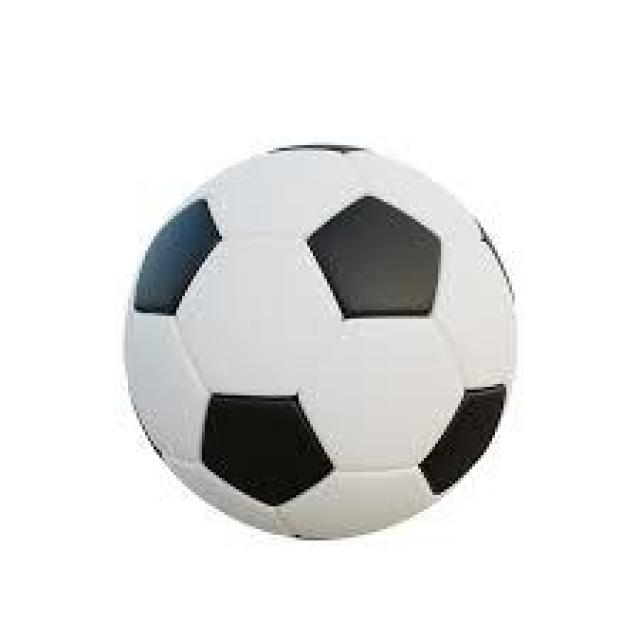Soccer Ball: (119, 142, 512, 540)
